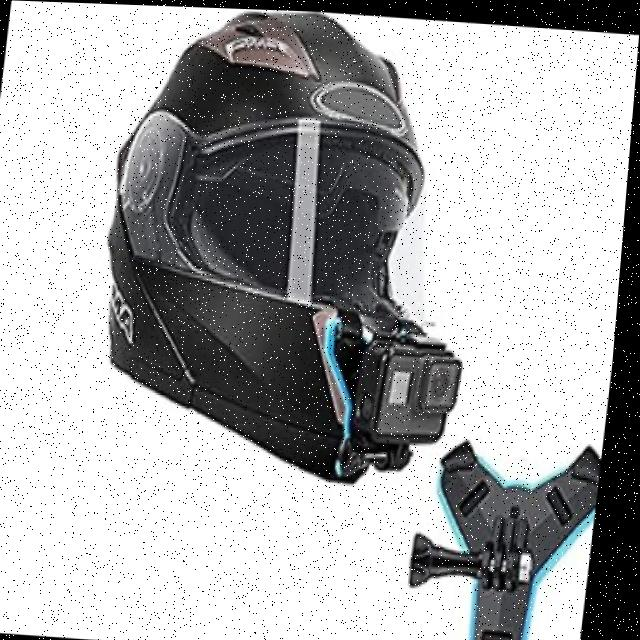illegal_helmet: (77, 3, 505, 499)
